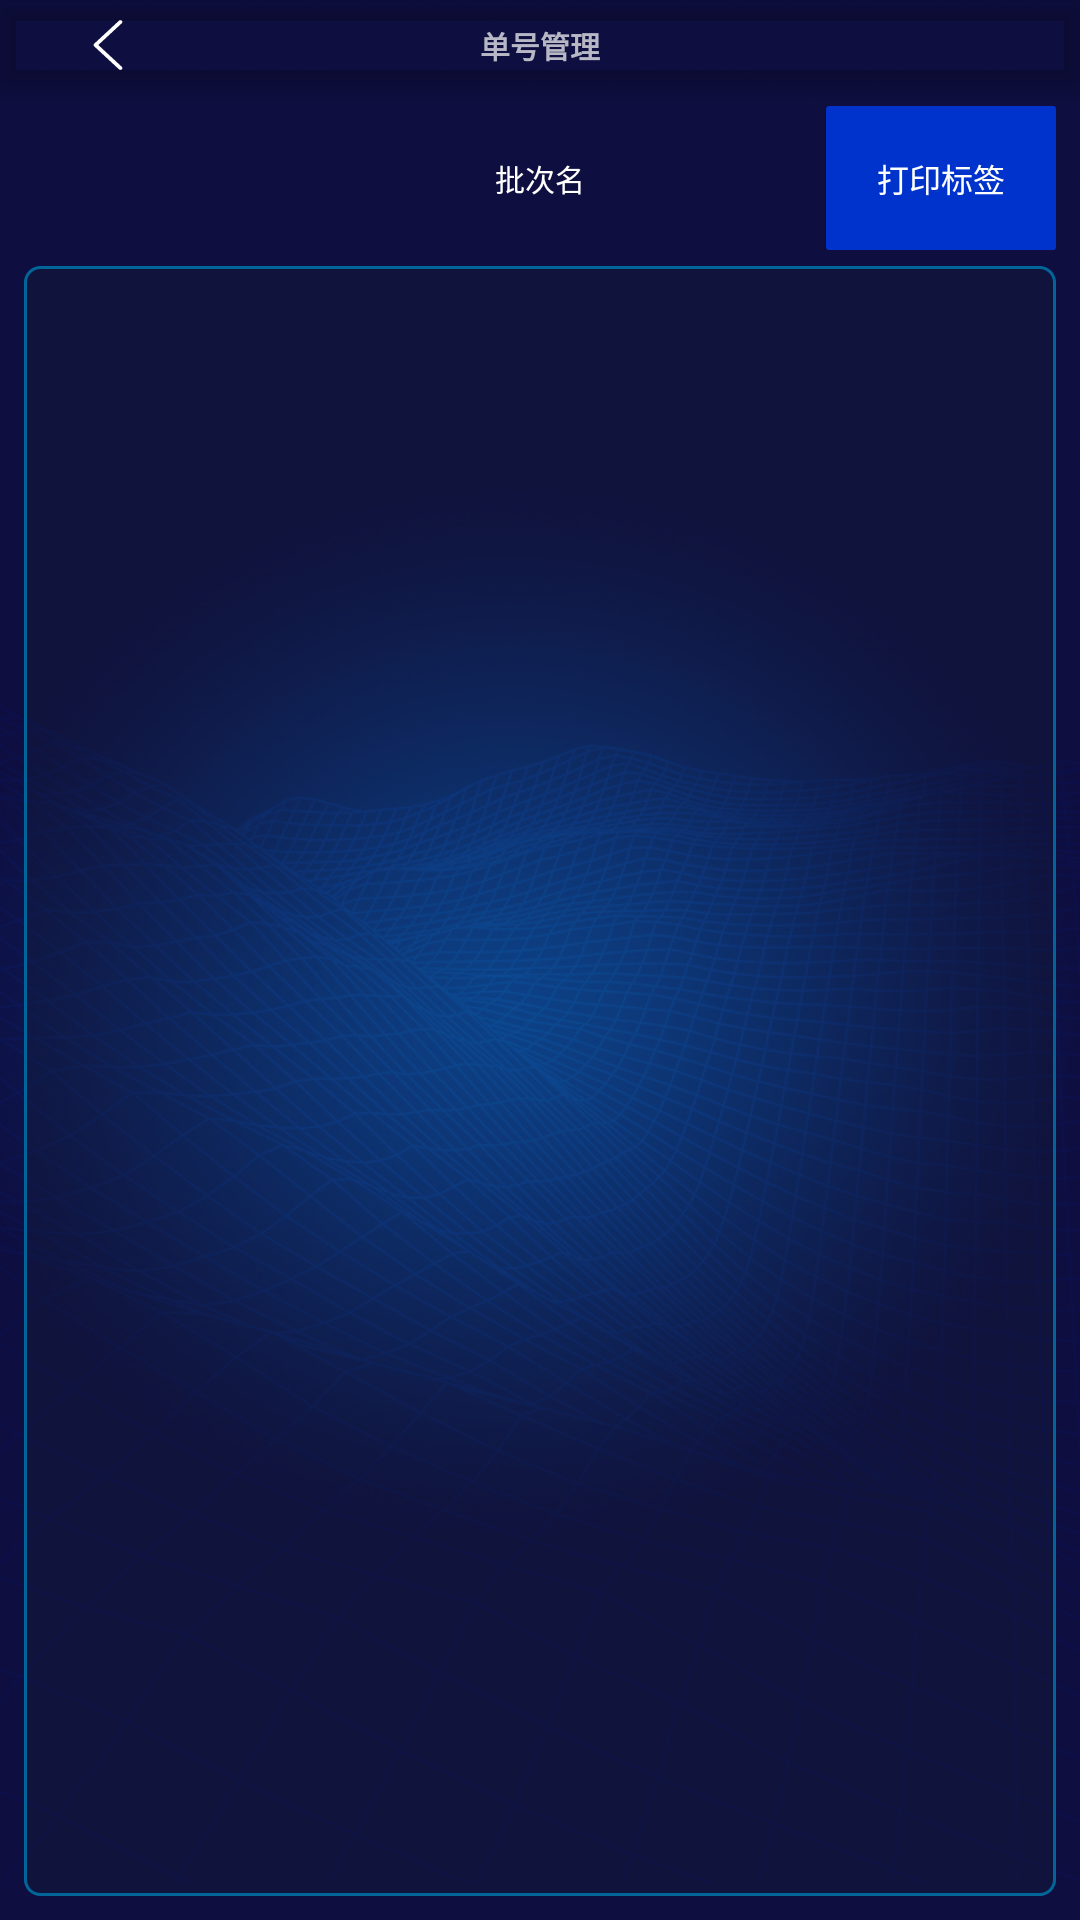

Screen size 1080*1920. Icon name, then its box in pixels as (x1, y1, x2, y2):
back: (93, 20, 123, 70)
